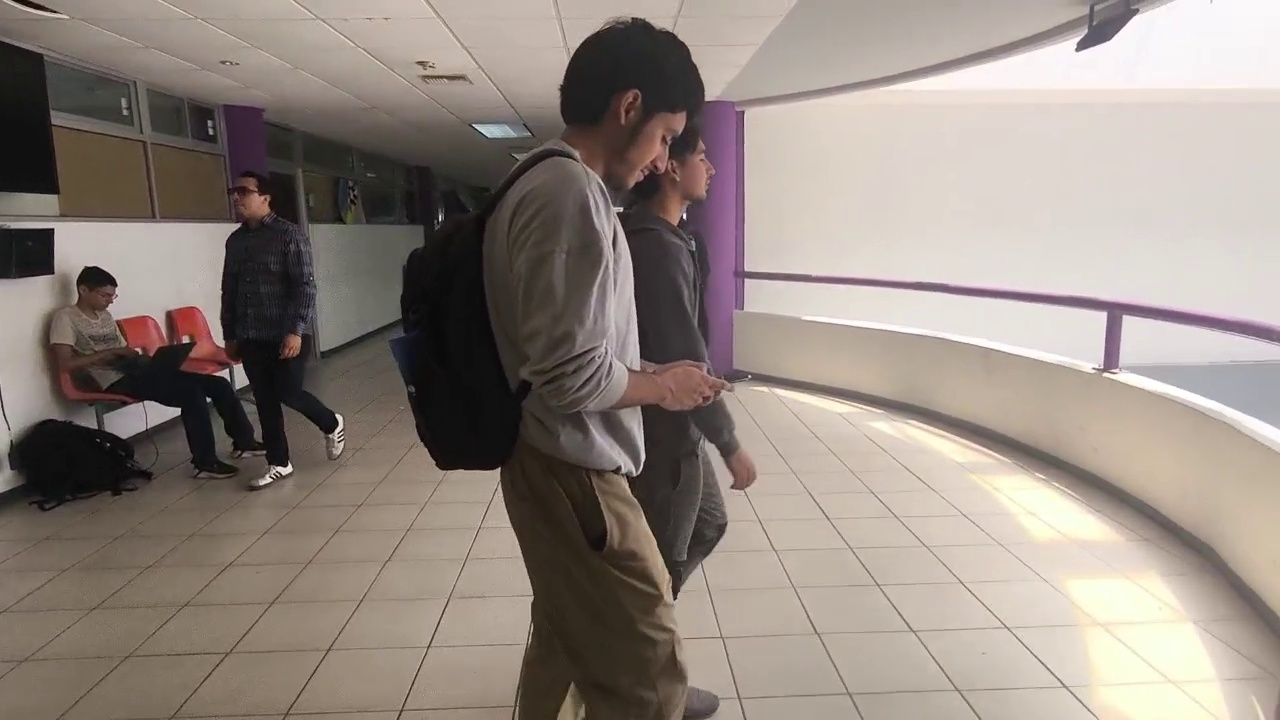mixto2: (712, 365, 761, 388)
